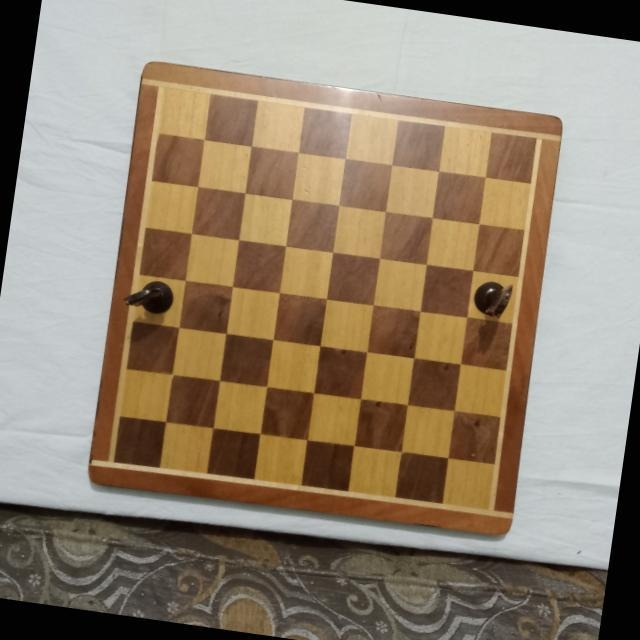black-knight: (122, 276, 176, 316), (469, 275, 515, 320)
